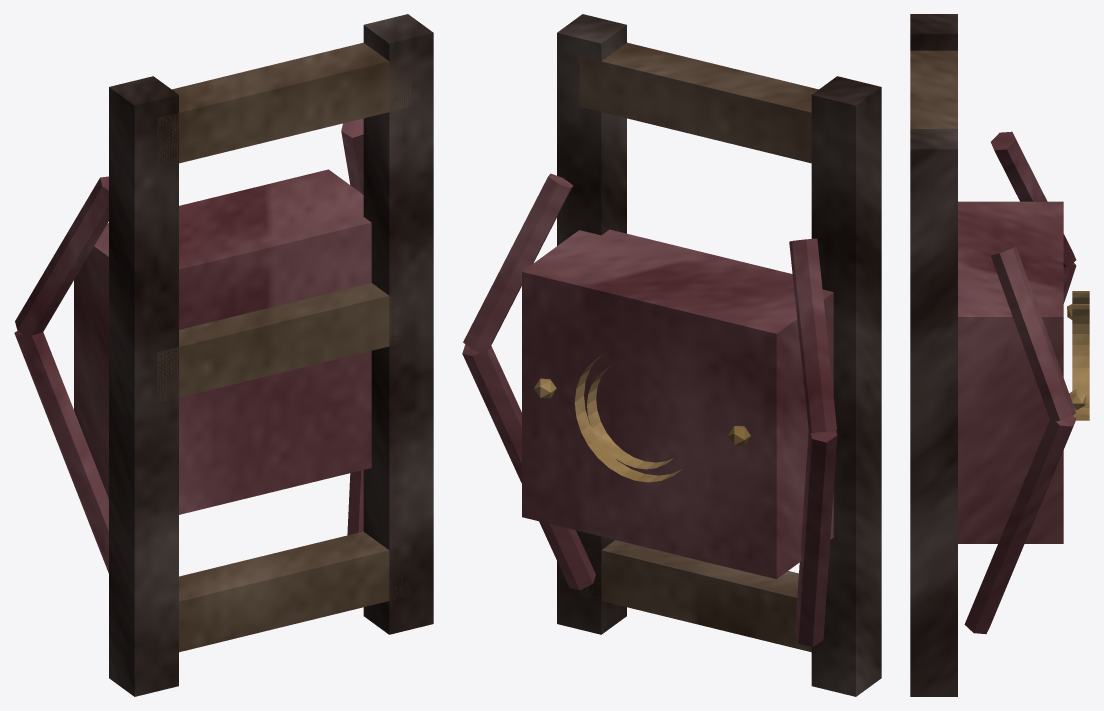
Rendered from 0840_carrier_frame_15.glb.
3 views of the same model, side by side, from view 1: azimuth 30°, elevation 25°; view 2: azimuth 150°, elevation 25°; view 3: azimuth 270°, elevation 25° (orthographic). The views are drawn at different scales.
Visible parts, largest first — view 1: wood_dark, cloth, wood; view 2: cloth, wood_dark, wood, brass; view 3: cloth, wood_dark, wood, brass.
Boxes of the visible parts, x1,y1,x2,y2 form: wood_dark: (109, 14, 433, 696); cloth: (14, 118, 371, 573); wood: (157, 42, 411, 652); cloth: (462, 173, 837, 647); wood_dark: (557, 14, 881, 696); wood: (579, 42, 833, 655); brass: (534, 353, 750, 482); cloth: (958, 131, 1076, 634); wood_dark: (910, 14, 957, 696); wood: (910, 50, 957, 128); brass: (1067, 291, 1089, 420).
Bounding box in the file's own units: 0.921 × 1.4 × 0.415.
4 materials, 4 textured.
